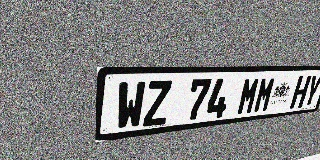4: (205, 78, 232, 119)
7: (184, 79, 212, 122)
H: (289, 76, 312, 109)
M: (236, 77, 261, 115), (253, 77, 277, 113)
W: (116, 81, 146, 130)
Y: (302, 75, 320, 107)
Z: (143, 80, 172, 127)
